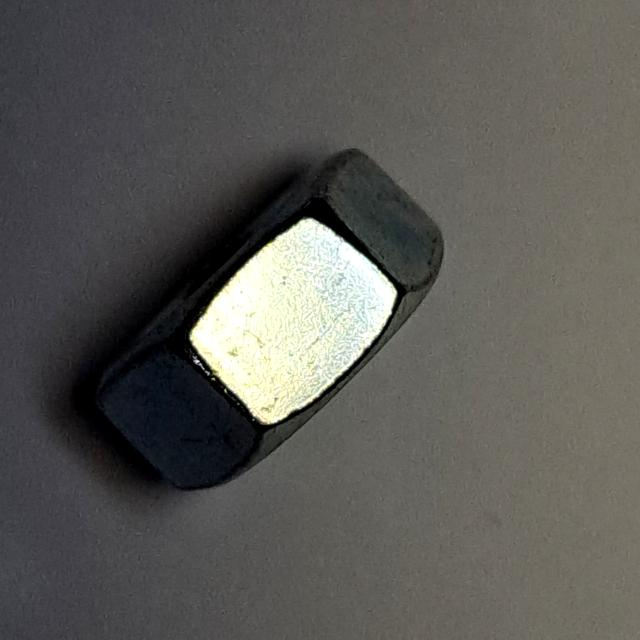Side_Excellent: (70, 134, 472, 502)
